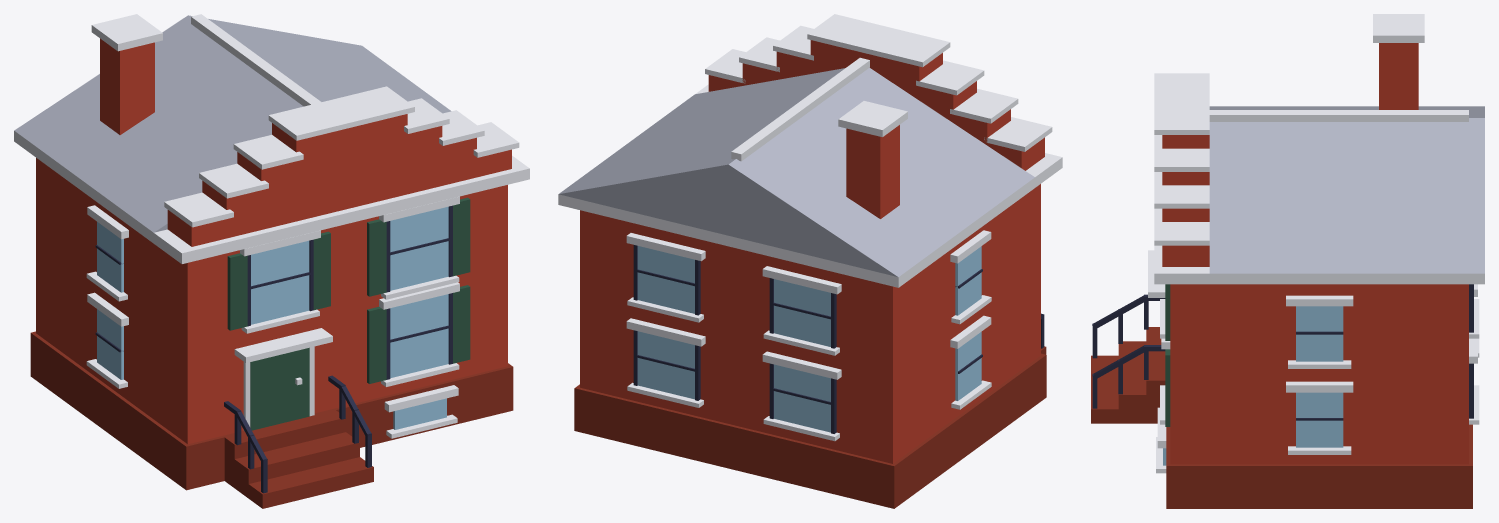
File: house-1x1-2f-dutch-a.glb
3 views of the same model, side by side, from view 1: azimuth 30°, elevation 25°; view 2: azimuth 150°, elevation 25°; view 3: azimuth 270°, elevation 25° (orthographic). The views are drawn at different scales.
Visible parts, largest first — view 1: house-1x1-2f-dutch-a; view 2: house-1x1-2f-dutch-a; view 3: house-1x1-2f-dutch-a.
Boxes of the visible parts, <box> form: house-1x1-2f-dutch-a: <box>14,14,529,508</box>; house-1x1-2f-dutch-a: <box>558,14,1062,508</box>; house-1x1-2f-dutch-a: <box>1091,14,1484,508</box>.
Size of the model in its own units: 1 by 0.99 by 0.995.
Materials: 1 (1 with a texture image).
